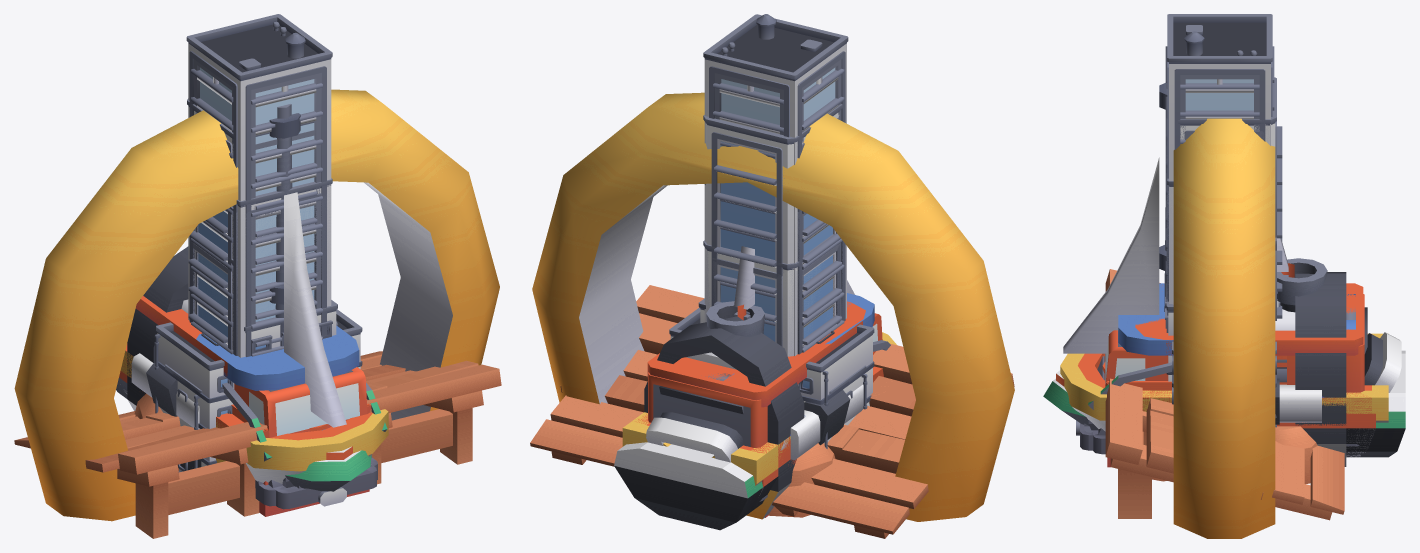
File: kit.glb
3 renders of one model, left to right at view 1: azimuth 30°, elevation 25°; view 2: azimuth 150°, elevation 25°; view 3: azimuth 270°, elevation 25°, orthographic. The views are drawn at different scales.
Parts seen in each view (by area): view 1: gate, building-skyscraper-d, ramp-wide, building-skyscraper-c, sail, body (×2), boat-speed-d, building-j, building-skyscraper-b, boat-fishing-small, boat-fan, ramp (+8 smaller); view 2: gate, ramp-wide, building-skyscraper-d, building-skyscraper-b, boat-speed-j, boat-fan, boat-tug-a, building-skyscraper-a, body, building-j, boat-speed-d, ramp (+8 smaller); view 3: gate, building-skyscraper-d, ramp-wide, sail, boat-fan, boat-tug-a, boat-speed-d, boat-speed-j, body (×2), building-skyscraper-b, boat-fishing-small, boat-speed-g (+7 smaller).
Part boxes in pixels (box(x1,y1,x2,y2)): gate: box(14, 89, 499, 521); building-skyscraper-d: box(186, 14, 332, 356); ramp-wide: box(14, 351, 501, 538); building-skyscraper-c: box(188, 178, 332, 357); sail: box(269, 104, 346, 427); body (×2): box(234, 367, 377, 509); boat-speed-d: box(121, 350, 388, 483); building-j: box(154, 309, 362, 472); building-skyscraper-b: box(187, 98, 317, 349); boat-fishing-small: box(196, 325, 359, 390); boat-fan: box(127, 246, 225, 462); ramp: box(118, 381, 409, 516); gate: box(532, 92, 1014, 521); ramp-wide: box(530, 285, 1014, 538); building-skyscraper-d: box(703, 14, 848, 355); building-skyscraper-b: box(703, 104, 842, 355); boat-speed-j: box(614, 417, 763, 530); boat-fan: box(644, 316, 804, 519); boat-tug-a: box(635, 301, 883, 453); building-skyscraper-a: box(703, 234, 841, 356); body: box(648, 313, 882, 501); building-j: box(669, 307, 874, 448); boat-speed-d: box(622, 332, 896, 485); ramp: box(772, 343, 907, 516); gate: box(1173, 118, 1275, 538); building-skyscraper-d: box(1165, 14, 1274, 314); ramp-wide: box(1105, 269, 1344, 520); sail: box(1063, 83, 1288, 353); boat-fan: box(1295, 272, 1346, 466); boat-tug-a: box(1078, 258, 1371, 413); boat-speed-d: box(1060, 333, 1388, 431); boat-speed-j: box(1043, 332, 1405, 457); body (×2): box(1076, 294, 1364, 454); building-skyscraper-b: box(1166, 77, 1282, 318); boat-fishing-small: box(1118, 283, 1323, 397); boat-speed-g: box(1346, 333, 1382, 457).
Bounding box in the file's own units: 6.2 × 5.77 × 4.27.
5 materials, 5 textured.
